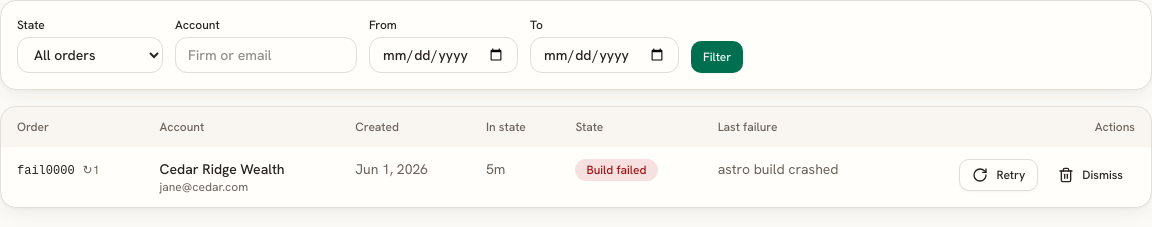
Scenario: <AdminOrdersTable /> › surfaces an action error instead of refreshing
Step 1. Click the button "Retry" → [999, 175], box [959,159,1038,191]
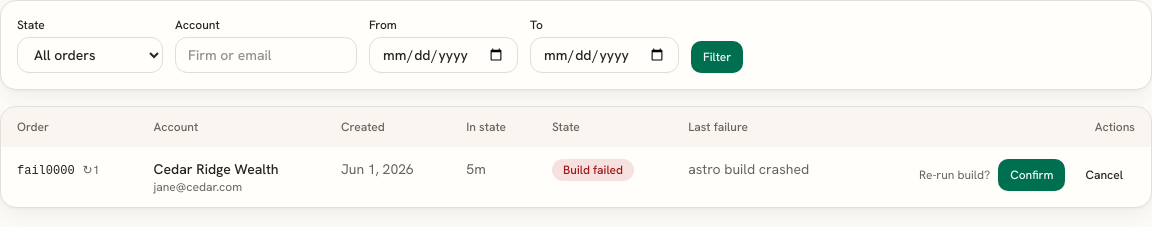
Step 2. Click the button "Confirm" → [1032, 175], box [998,159,1066,191]
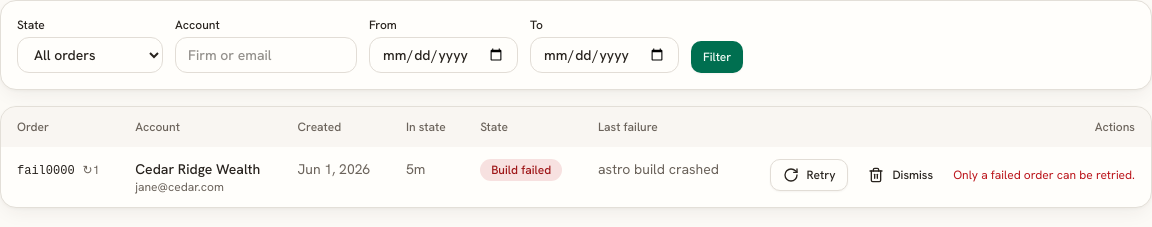
Check: the text "Only a failed order can be retried." is shown, box [953,167,1135,183]
